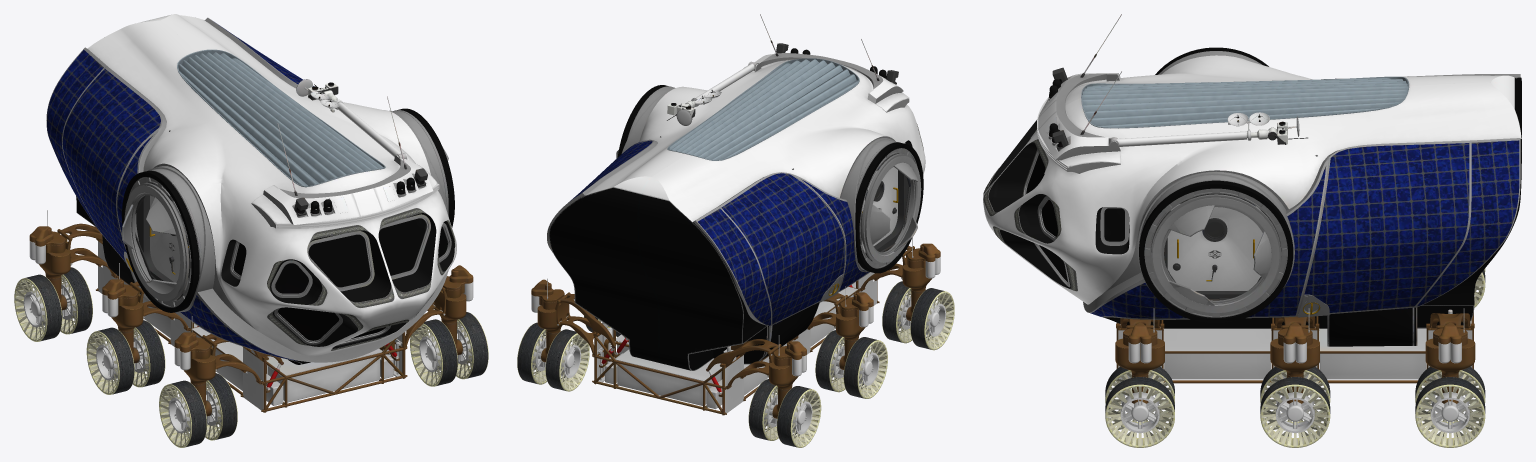
Rendered from Space Exploration Vehicle.glb.
The picture shows the model from 3 angles, left to right: view 1: azimuth 30°, elevation 25°; view 2: azimuth 150°, elevation 25°; view 3: azimuth 270°, elevation 25°; orthographic projection. The views are drawn at different scales.
Visible parts, largest first — view 1: MMSEV; view 2: MMSEV; view 3: MMSEV.
Boxes of the visible parts, <box> form: MMSEV: <box>14,14,488,447</box>; MMSEV: <box>517,14,954,447</box>; MMSEV: <box>983,14,1521,447</box>.
Size of the model in its own units: 4.04 by 3.97 by 5.91.
1 material, 1 textured.
